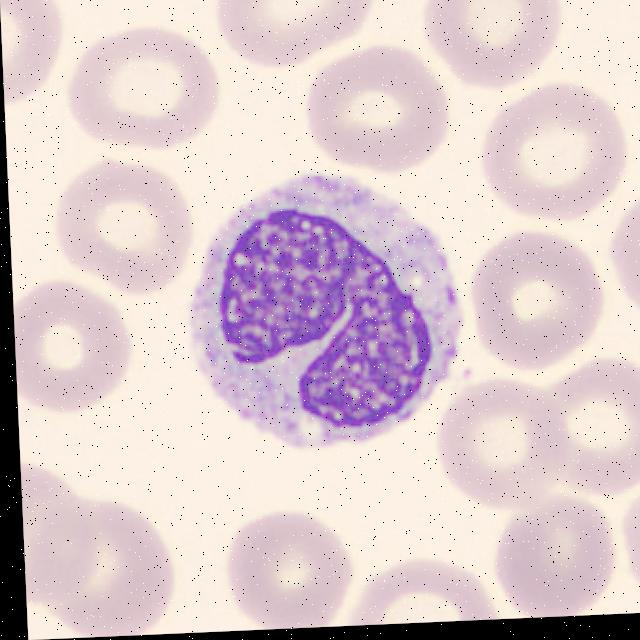monocyte: (169, 173, 474, 467)
rbc: (437, 364, 571, 525), (468, 232, 608, 374), (487, 88, 628, 225), (306, 43, 444, 178), (57, 160, 186, 296), (47, 500, 172, 638), (492, 491, 619, 619), (73, 37, 215, 151), (224, 512, 359, 631), (13, 277, 123, 415), (432, 0, 570, 91), (214, 0, 380, 73), (344, 556, 517, 626), (552, 361, 640, 490), (21, 462, 103, 597), (0, 0, 57, 103), (610, 188, 640, 323), (623, 492, 640, 601)
